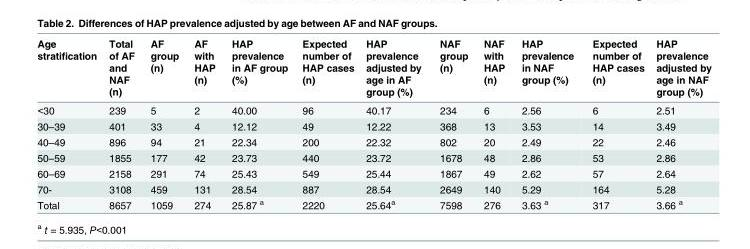table: (36, 36, 710, 210)
table column: (222, 36, 294, 210), (359, 36, 429, 210), (512, 36, 582, 210), (582, 36, 649, 210), (36, 36, 102, 210), (294, 36, 359, 210), (649, 36, 710, 210), (429, 36, 475, 210), (141, 36, 185, 210), (102, 36, 141, 210), (185, 36, 222, 210), (475, 36, 512, 210)
table column header: (36, 36, 710, 100)
table row: (36, 36, 710, 100), (36, 100, 710, 117), (36, 117, 710, 133), (36, 133, 710, 149), (36, 149, 710, 165), (36, 165, 710, 181), (36, 181, 710, 196), (36, 196, 710, 210)
